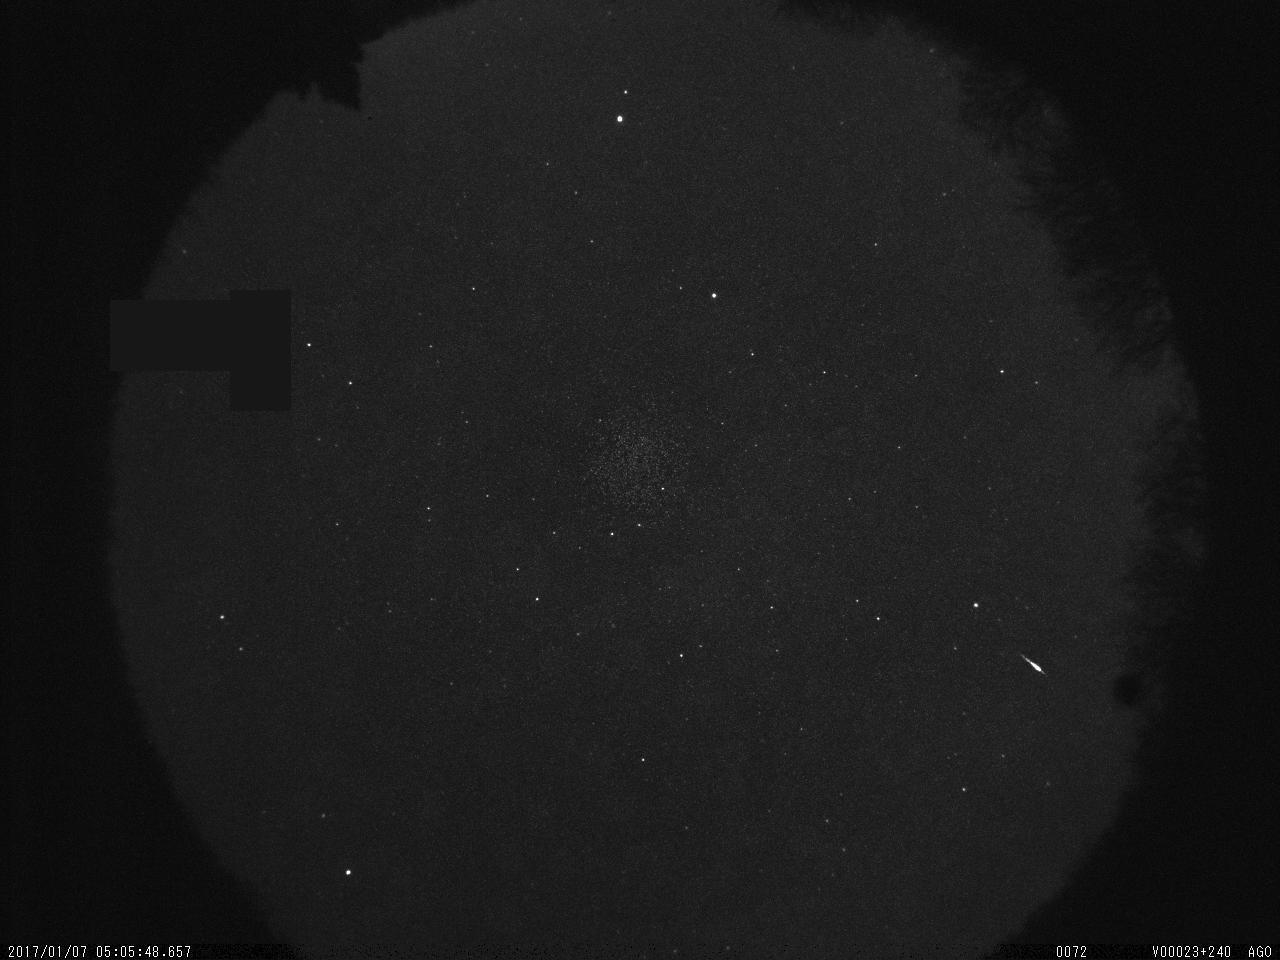meteor: (1016, 650, 1051, 680)
